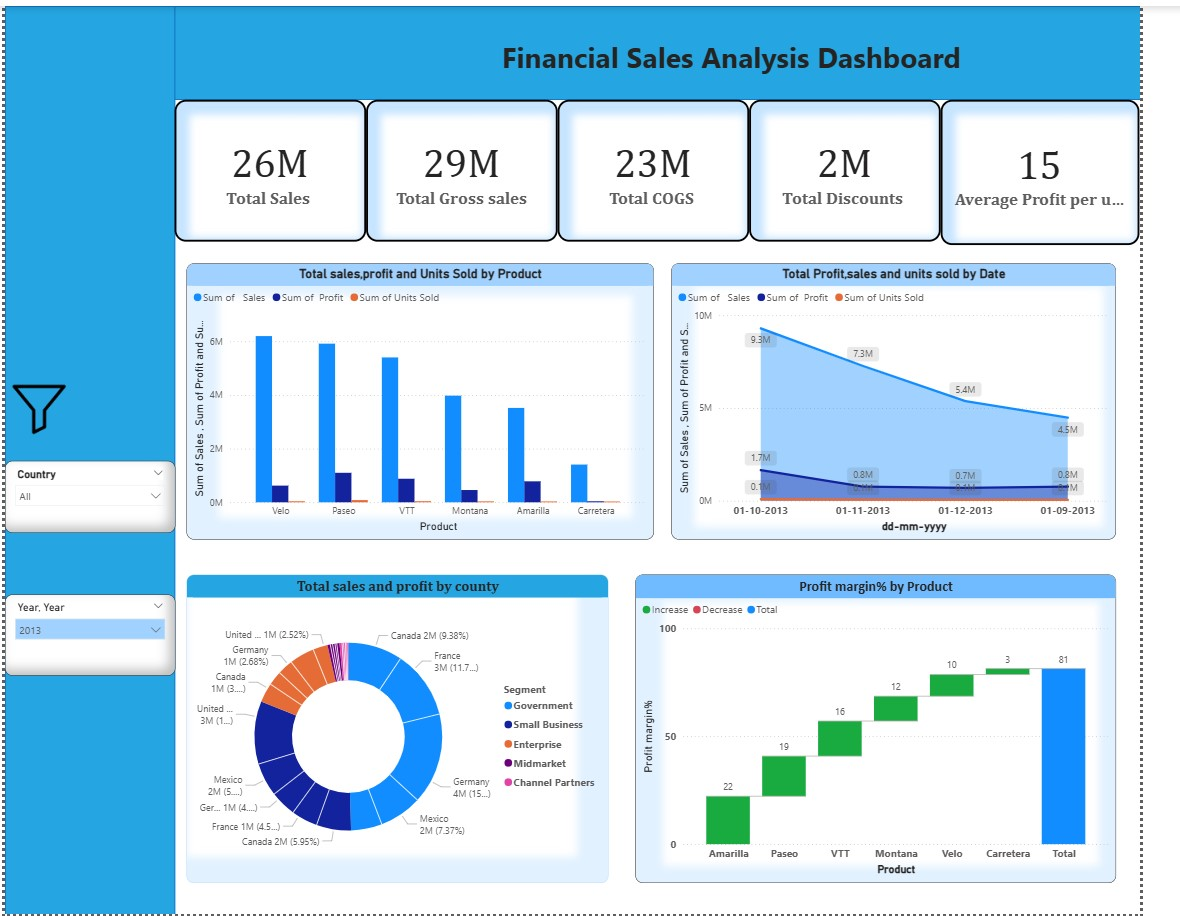

What the dashboard file says about the page in this screenshot:
{"tool":"powerbi","page":{"name":"Page 1","canvas":[1500,1200],"ordinal":0},"visuals":[{"type":"shape","box":[0,0,224.9,1501.9],"z":0},{"type":"shape","box":[224.9,0,2774.1,124.2],"z":1000},{"type":"textbox","box":[541.2,37.5,759.1,70.3],"z":2000},{"type":"card","fields":{"Values":["Sum(Financial Sample.  Sales )"]},"box":[224.9,124.2,253,187.4],"z":3000},{"type":"card","fields":{"Values":["Sum(Financial Sample. COGS )"]},"box":[731,124.2,253,187.4],"z":4000},{"type":"card","fields":{"Values":["Financial Sample.Total Gross sales"]},"box":[478,124.2,253,187.4],"z":5000},{"type":"card","fields":{"Values":["Sum(Financial Sample. Discounts )"]},"box":[984.1,124.2,253,187.4],"z":6000},{"type":"card","fields":{"Values":["Financial Sample.Average Profit per unit"]},"box":[1237.1,124.2,262.4,192.1],"z":7000},{"type":"clusteredColumnChart","title":"Total sales,profit and  Units Sold by  Product ","fields":{"Category":["Financial Sample. Product "],"Y":["Sum(Financial Sample.  Sales )","Sum(Financial Sample. Profit )","Sum(Financial Sample.Units Sold)"]},"box":[240,340,617.5,365],"z":8000},{"type":"areaChart","title":"Total Profit,sales and units sold by Date","fields":{"Category":["Financial Sample.Date"],"Y":["Sum(Financial Sample.  Sales )","Sum(Financial Sample. Profit )","Sum(Financial Sample.Units Sold)"]},"box":[880,340,587.5,365],"z":9000},{"type":"donutChart","title":"Total sales and profit by county","fields":{"Category":["Financial Sample.Segment","Financial Sample. Product "],"Series":["Financial Sample.Country"],"Y":["Sum(Financial Sample.  Sales )"]},"box":[240,752.5,557.5,407.5],"z":10000},{"type":"waterfallChart","fields":{"Category":["Financial Sample. Product "],"Y":["Financial Sample.Profit margin%"]},"box":[832.5,752.5,635,407.5],"z":10001},{"type":"slicer","fields":{"Values":["Financial Sample.Country"]},"box":[0,600,225,95],"z":10002},{"type":"slicer","fields":{"Values":["Financial Sample.Year","Financial Sample.Year Hierarchy.Year"]},"box":[0,777.5,225,107.5],"z":10003},{"type":"image","box":[0,492.5,90,80],"z":10004}]}

Visuals, with their boxes in screenshot pixels (x1, y1, x2, y2):
shape: (x1=0, y1=0, x2=172, y2=915)
shape: (x1=172, y1=0, x2=1179, y2=97)
textbox: (x1=419, y1=29, x2=1011, y2=84)
card - Sum(Financial Sample.  Sales ): (x1=172, y1=97, x2=370, y2=243)
card - Sum(Financial Sample. COGS ): (x1=567, y1=97, x2=765, y2=243)
card - Financial Sample.Total Gross sales: (x1=370, y1=97, x2=567, y2=243)
card - Sum(Financial Sample. Discounts ): (x1=765, y1=97, x2=962, y2=243)
card - Financial Sample.Average Profit per unit: (x1=962, y1=97, x2=1167, y2=247)
"Total sales,profit and  Units Sold by  Product " clusteredColumnChart: (x1=184, y1=265, x2=666, y2=550)
"Total Profit,sales and units sold by Date" areaChart: (x1=684, y1=265, x2=1142, y2=550)
"Total sales and profit by county" donutChart: (x1=184, y1=587, x2=619, y2=905)
waterfallChart - Financial Sample. Product  x Financial Sample.Profit margin%: (x1=646, y1=587, x2=1142, y2=905)
slicer - Financial Sample.Country: (x1=0, y1=468, x2=172, y2=542)
slicer - Financial Sample.Year x Financial Sample.Year Hierarchy.Year: (x1=0, y1=607, x2=172, y2=690)
image: (x1=0, y1=384, x2=67, y2=447)
